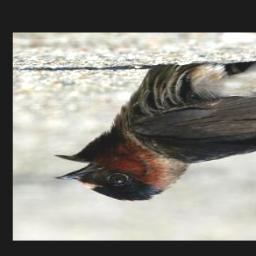Swallow: (50, 59, 256, 202)
